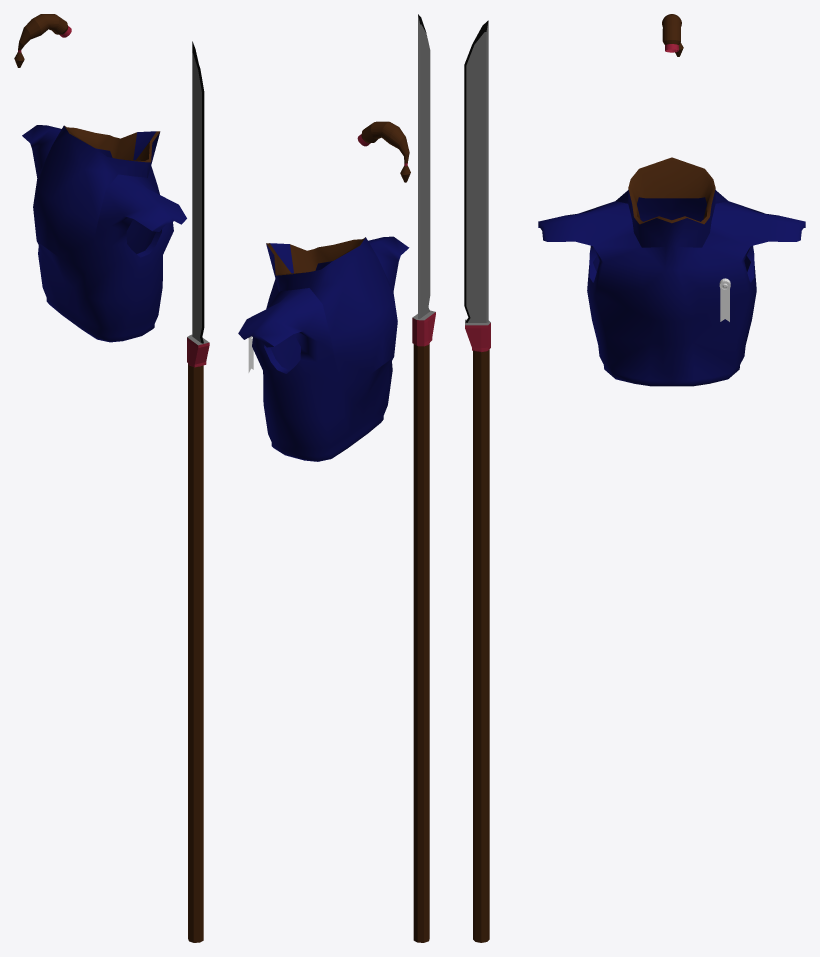
File: DenisParts.fbx
3 views of the same model, side by side, from view 1: azimuth 30°, elevation 25°; view 2: azimuth 150°, elevation 25°; view 3: azimuth 270°, elevation 25° (orthographic). The views are drawn at different scales.
Parts seen in each view (by area): view 1: Igor_Torso.004, Cylinder, DenisHair; view 2: Igor_Torso.004, Cylinder, DenisHair; view 3: Igor_Torso.004, Cylinder, DenisHair.
Boxes of the visible parts, x1=… form: Igor_Torso.004: x1=22, y1=125, x2=186, y2=342; Cylinder: x1=187, y1=41, x2=209, y2=942; DenisHair: x1=14, y1=14, x2=71, y2=67; Igor_Torso.004: x1=238, y1=236, x2=409, y2=461; Cylinder: x1=412, y1=14, x2=435, y2=942; DenisHair: x1=357, y1=121, x2=410, y2=182; Igor_Torso.004: x1=538, y1=157, x2=805, y2=386; Cylinder: x1=464, y1=20, x2=490, y2=942; DenisHair: x1=662, y1=14, x2=683, y2=56.
Size of the model in its own units: 30.6 by 184 by 62.02.
